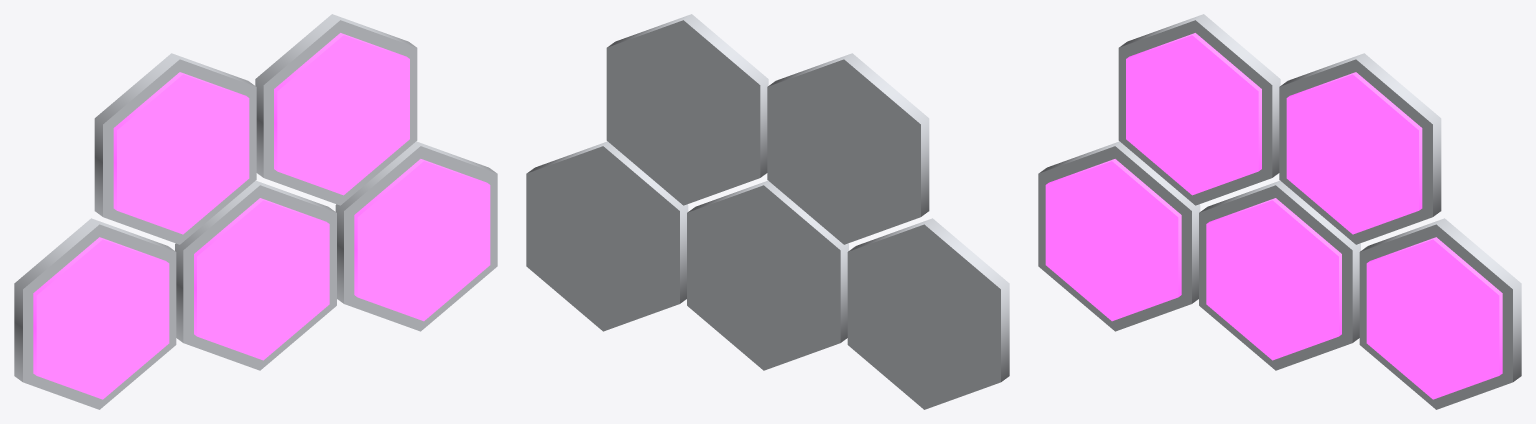
Rendered from panel.hex.cluster.glb.
3 renders of one model, left to right at view 1: azimuth 30°, elevation 25°; view 2: azimuth 150°, elevation 25°; view 3: azimuth 330°, elevation 25°, orthographic.
Visible parts, largest first — view 1: glow, frame; view 2: frame; view 3: glow, frame.
Part boxes in pixels (box(x1,y1,x2,y2)): glow: box(33, 33, 490, 399); frame: box(14, 14, 497, 409); frame: box(526, 14, 1009, 409); glow: box(1045, 33, 1502, 399); frame: box(1038, 14, 1521, 409).
Bounding box in the file's own units: 0.5889 × 0.3925 × 0.025.
